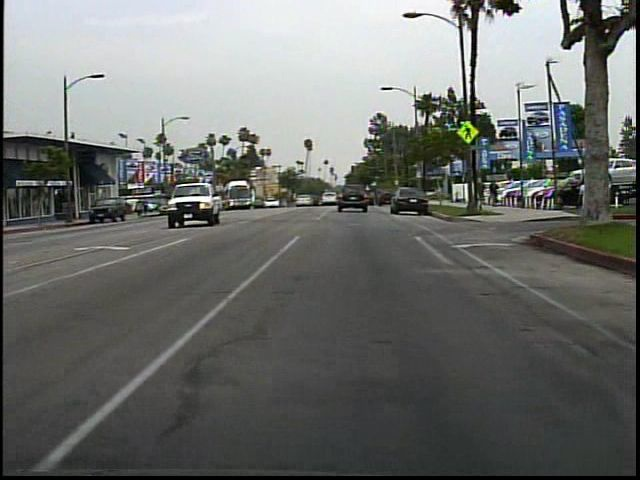person: (574, 173, 598, 227)
